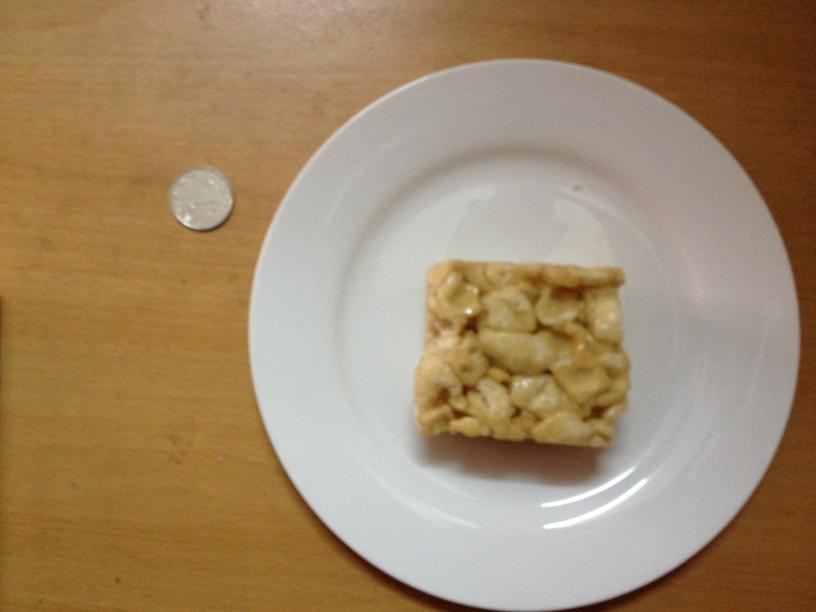coin: (163, 166, 234, 229)
sachima: (421, 259, 626, 447)
